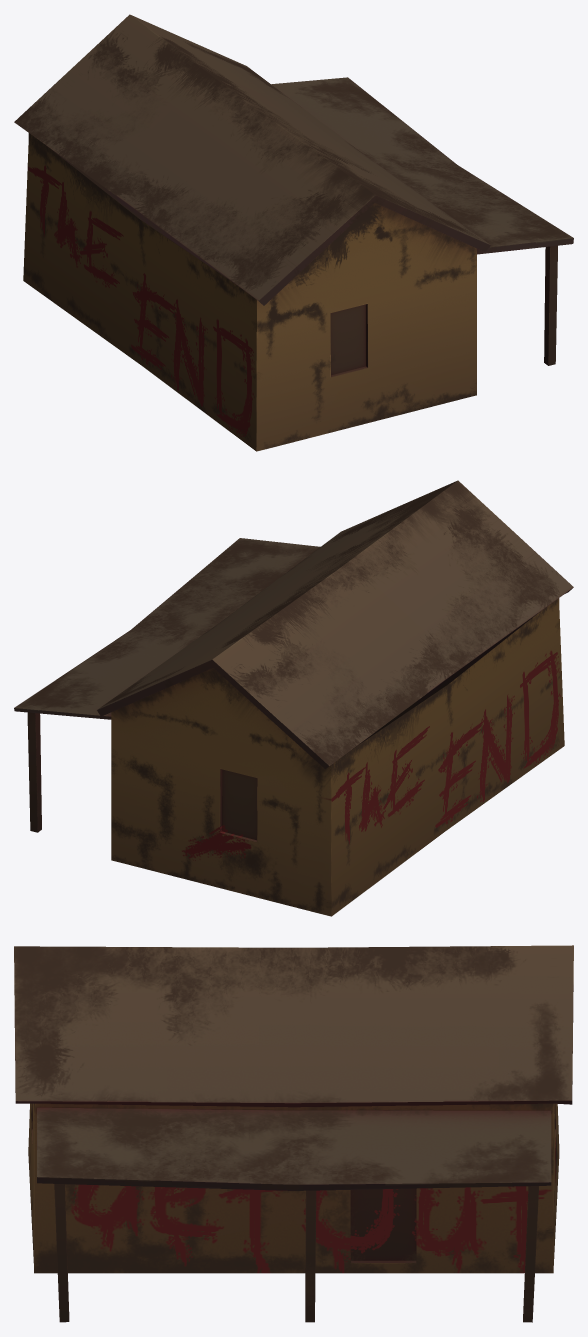
The model's file is Build5.glb.
3 views of the same model, one above another, from view 1: azimuth 30°, elevation 25°; view 2: azimuth 150°, elevation 25°; view 3: azimuth 270°, elevation 25° (orthographic). The views are drawn at different scales.
Visible parts, largest first — view 1: Build5; view 2: Build5; view 3: Build5.
Boxes of the visible parts, x1,y1,x2,y2 form: Build5: (14, 14, 573, 451); Build5: (14, 480, 573, 916); Build5: (14, 945, 573, 1322).
Size of the model in its own units: 6.63 by 4.57 by 8.69.
1 material, 1 textured.
